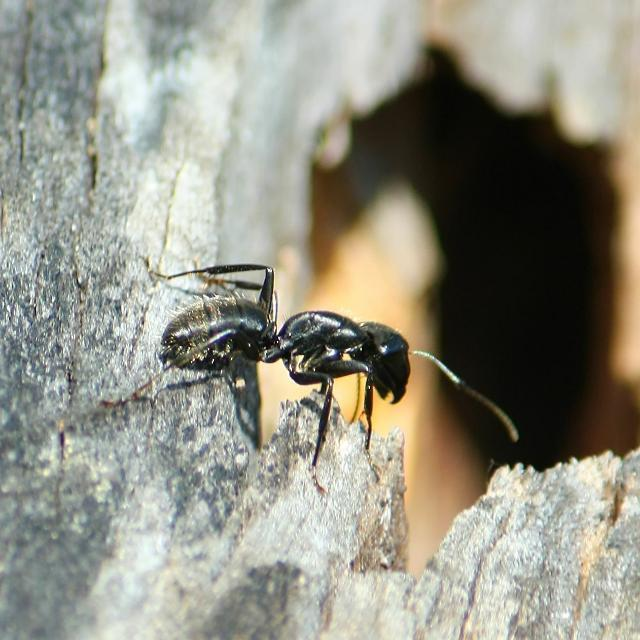Camponotus: (131, 249, 461, 439)
